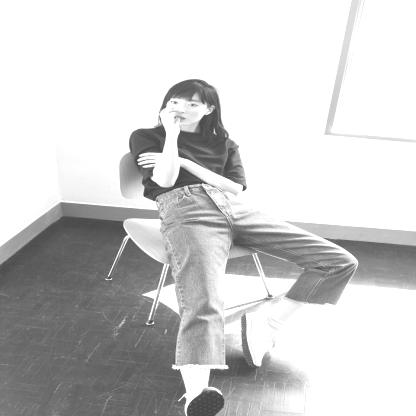dress: (154, 184, 361, 372), (130, 124, 254, 200)
